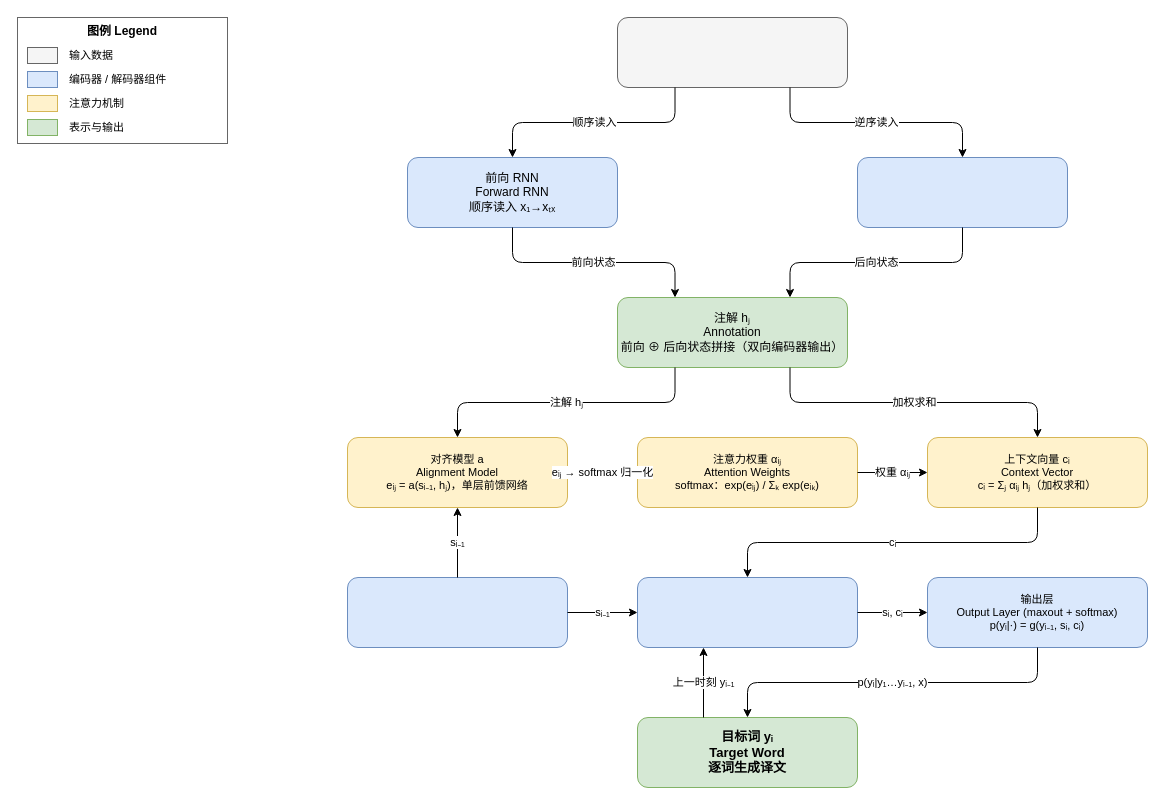
Some shapes in this 1165 by 805 pixel diagram are drawn without their labels. The shapes that lost their labels are listed below. From the top down, each one's box as (x1, y1, x2, y2) in pixels, then its label:
(616, 16, 848, 88): 源句 Source Sentence x₁…xₜₓ
(856, 156, 1068, 228): 后向 RNN Backward RNN 逆序读入 xₜₓ→x₁
(346, 576, 568, 648): 解码器隐藏状态 sᵢ₋₁ Decoder Hidden State 上一时刻状态（时间循环）
(636, 576, 858, 648): 解码器 RNN Decoder RNN sᵢ = f(sᵢ₋₁, yᵢ₋₁, cᵢ)
